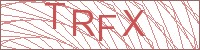F: (96, 14, 118, 43)
R: (71, 7, 97, 38)
T: (42, 1, 67, 30)
X: (119, 8, 150, 38)
